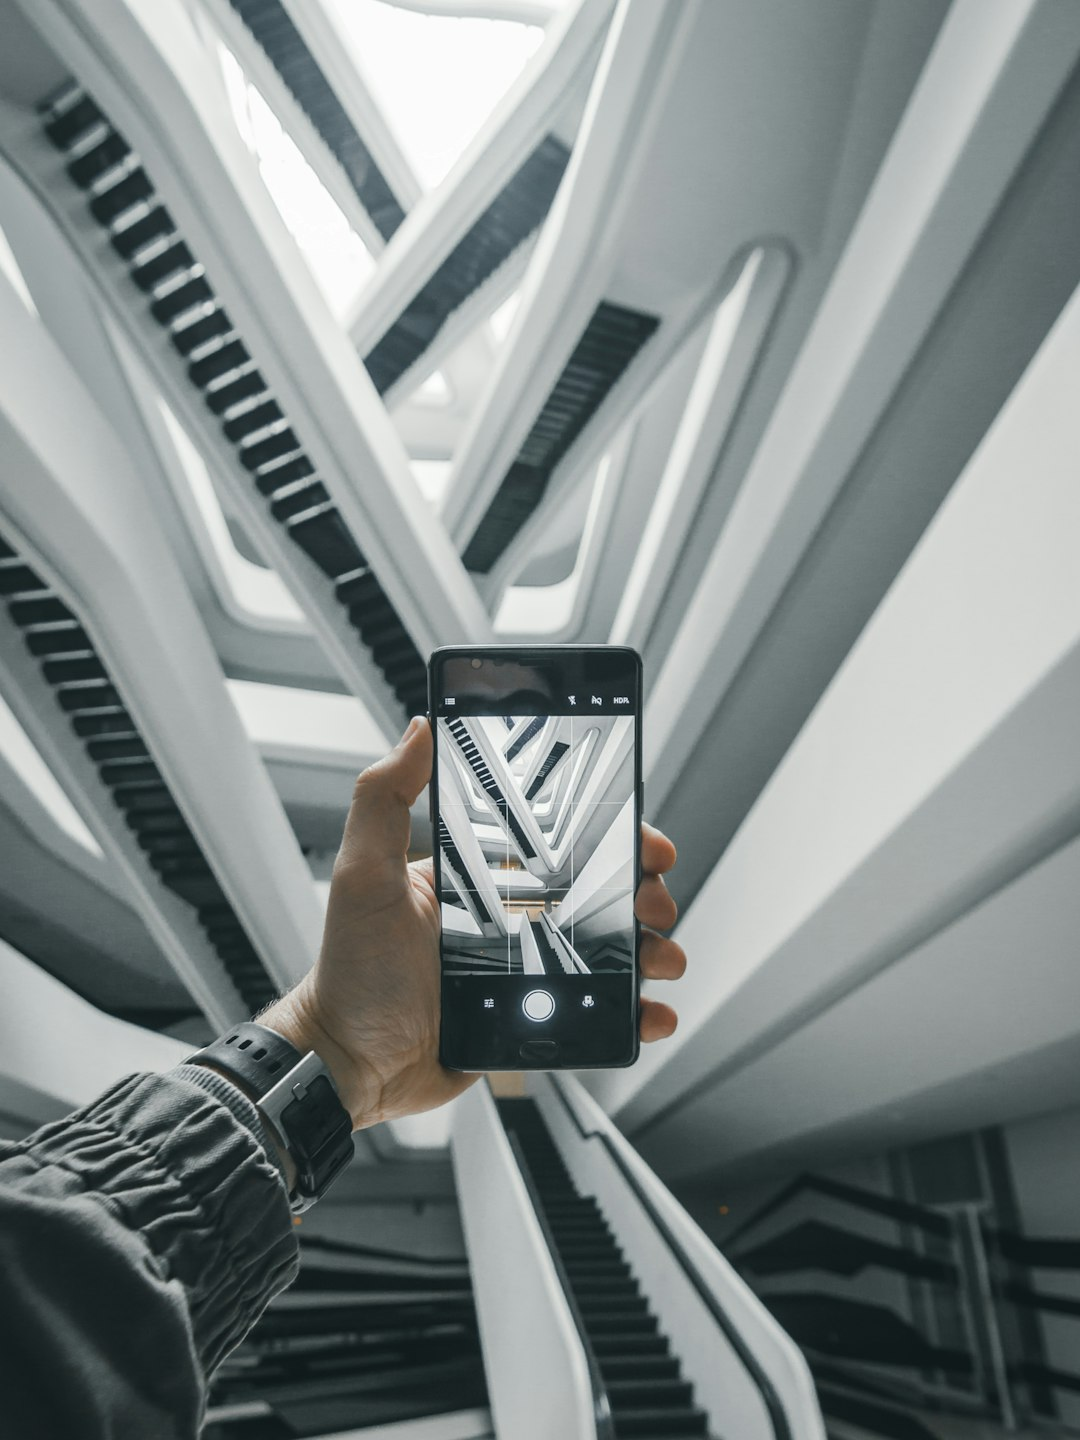phone: (429, 642, 649, 1084)
